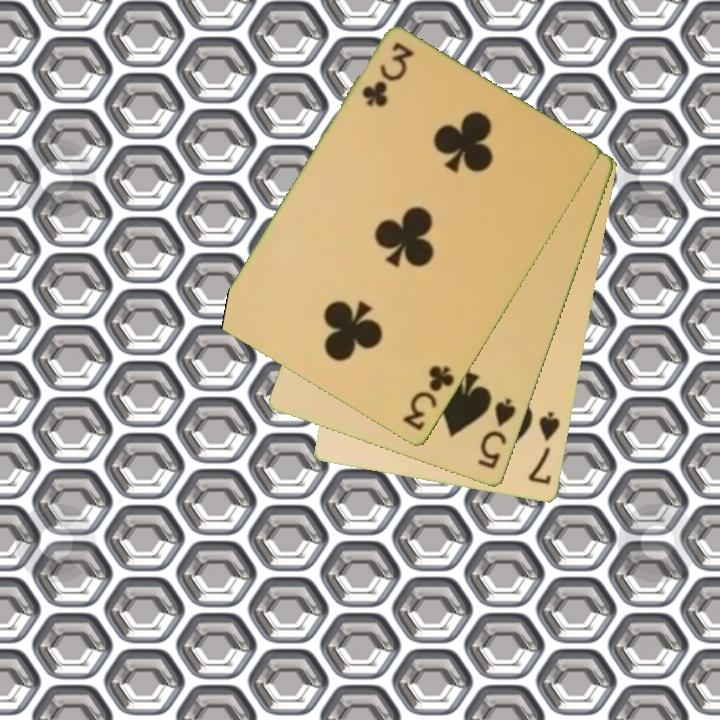3c: (358, 38, 417, 111), (399, 362, 458, 434)
5s: (474, 395, 519, 473)
7s: (525, 408, 563, 488)
